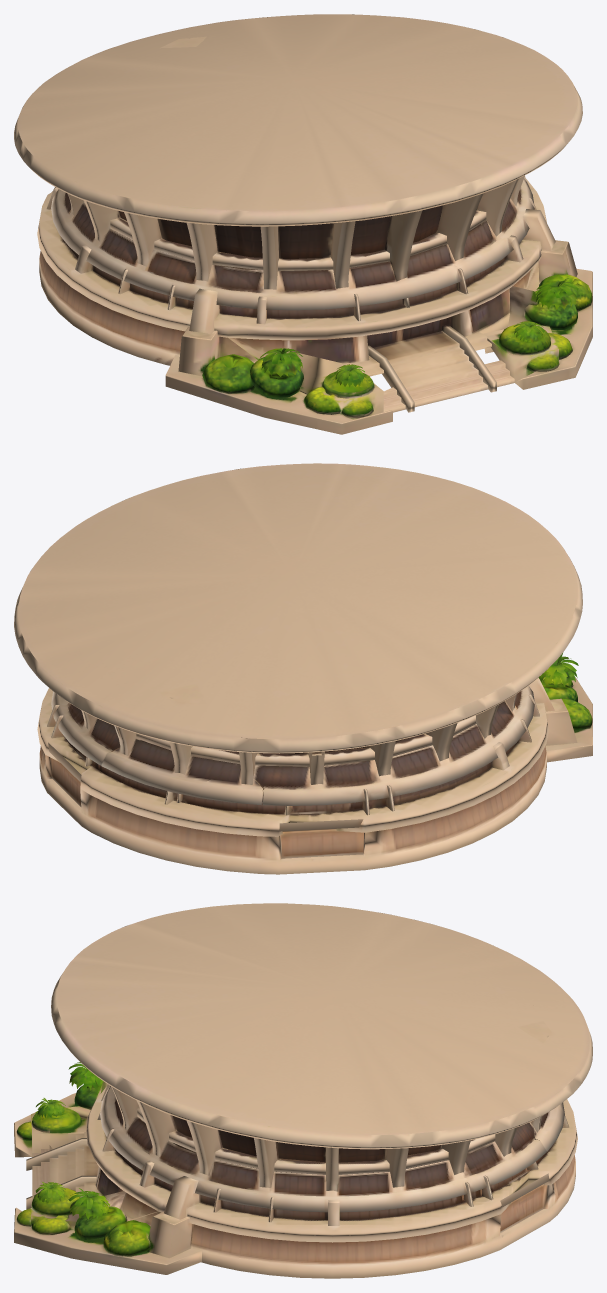
File: lagos+stadium+3d+model.fbx
The picture shows the model from 3 angles, top to bottom: view 1: azimuth 30°, elevation 25°; view 2: azimuth 150°, elevation 25°; view 3: azimuth 270°, elevation 25°; orthographic projection. The views are drawn at different scales.
Parts seen in each view (by area): view 1: tripo_3abe5835_b962_4be9_af4c_df756eee7010; view 2: tripo_3abe5835_b962_4be9_af4c_df756eee7010; view 3: tripo_3abe5835_b962_4be9_af4c_df756eee7010.
Boxes of the visible parts, x1,y1,x2,y2 form: tripo_3abe5835_b962_4be9_af4c_df756eee7010: (14, 14, 592, 434); tripo_3abe5835_b962_4be9_af4c_df756eee7010: (14, 463, 592, 874); tripo_3abe5835_b962_4be9_af4c_df756eee7010: (14, 903, 592, 1278).
Size of the model in its own units: 0.9448 by 0.3765 by 0.9995.
